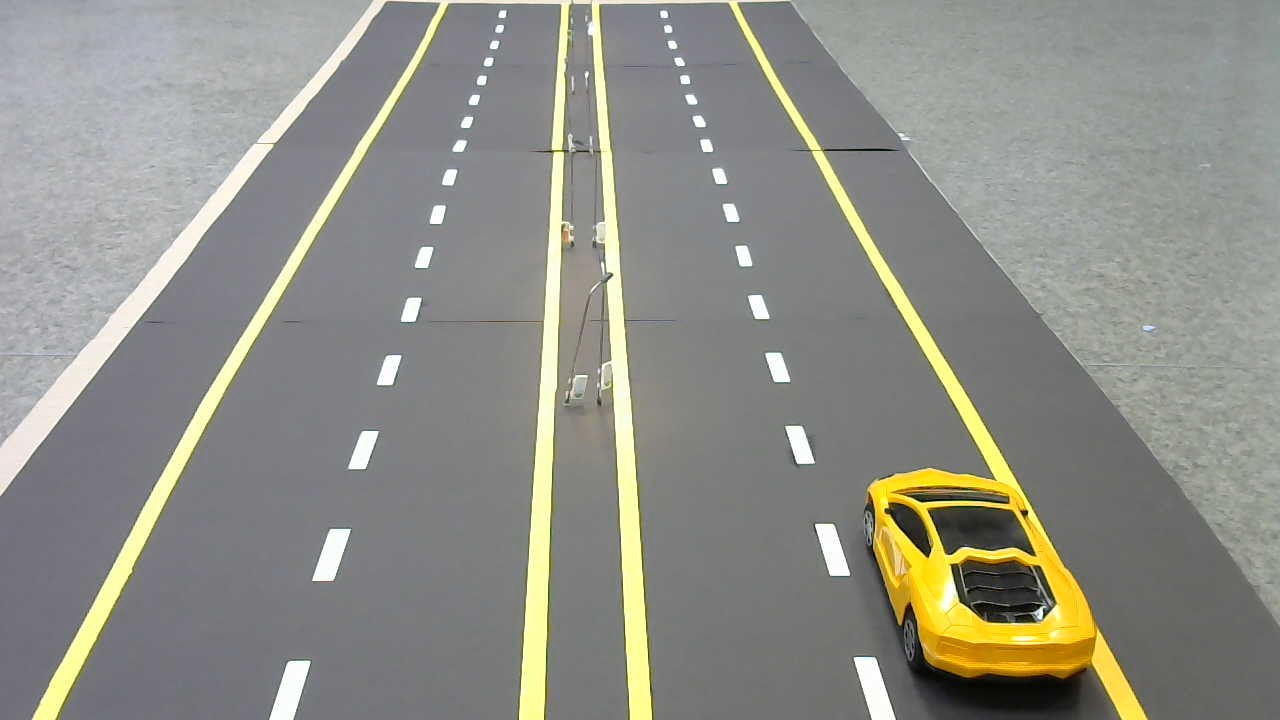back_car: (848, 459, 1112, 691)
